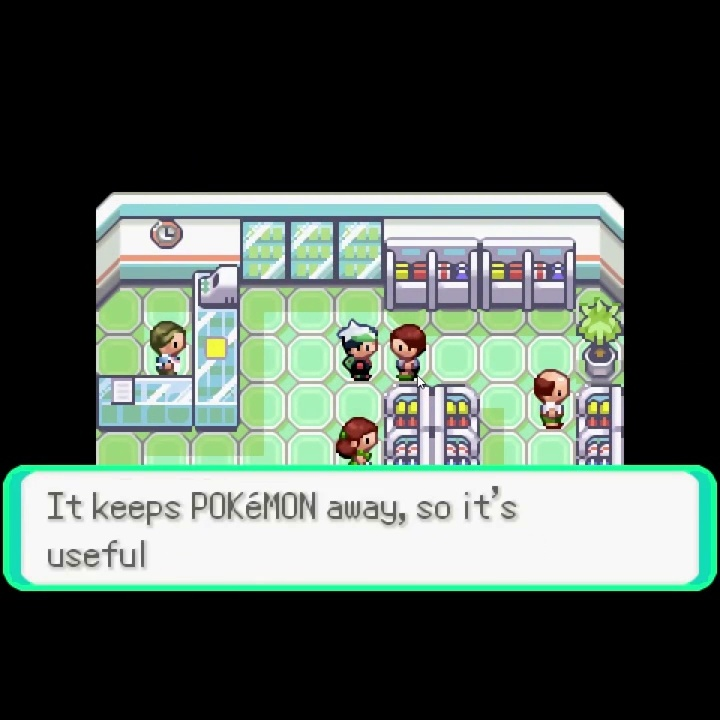agent: (333, 316, 380, 384)
npc: (531, 367, 573, 433), (385, 321, 428, 383), (332, 414, 382, 466), (148, 319, 192, 375)
